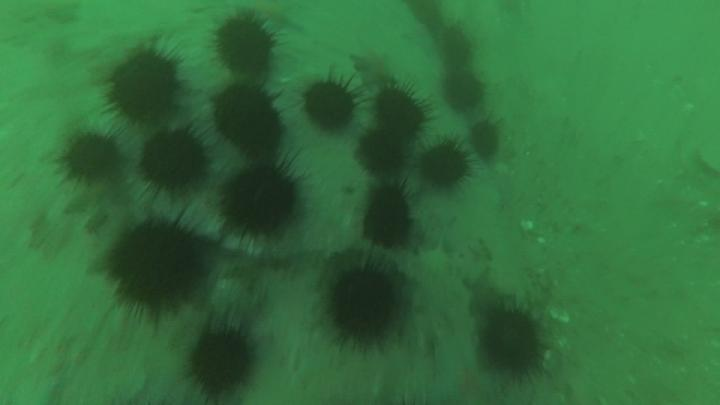echinus: (93, 200, 220, 329), (308, 241, 412, 354), (89, 33, 195, 139), (211, 154, 308, 254), (468, 291, 559, 396), (201, 73, 302, 163), (126, 114, 216, 213), (176, 303, 266, 401), (203, 10, 294, 82), (50, 122, 136, 196), (356, 180, 423, 258), (412, 130, 483, 200), (346, 122, 420, 184), (306, 71, 369, 141), (366, 78, 438, 135), (439, 70, 497, 119), (432, 22, 484, 73), (469, 112, 509, 166), (403, 2, 458, 39)
